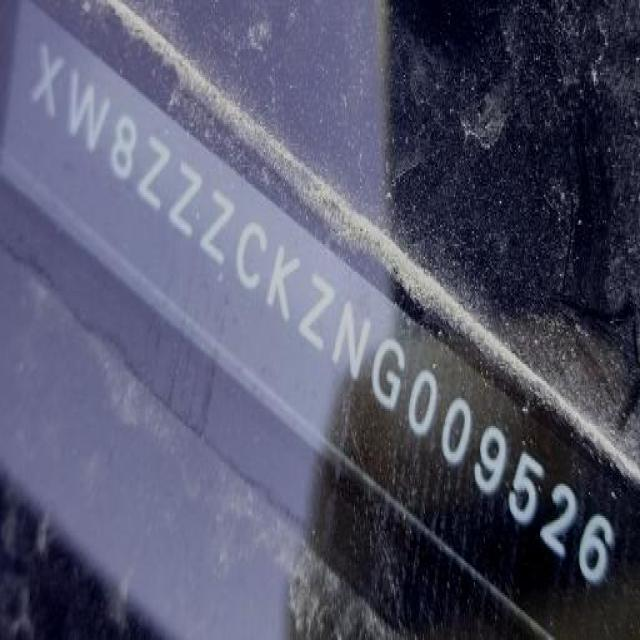0: (407, 363, 438, 432), (442, 398, 470, 462)
2: (540, 480, 578, 558)
5: (510, 456, 542, 526)
6: (579, 514, 616, 583)
8: (109, 109, 136, 182)
9: (471, 419, 506, 496)
C: (236, 222, 269, 286)
G: (369, 338, 406, 421)
K: (268, 250, 301, 322)
N: (329, 305, 373, 379)
W: (67, 70, 109, 154)
X: (27, 28, 63, 128)
Z: (298, 271, 334, 355), (168, 167, 204, 240), (138, 136, 170, 212), (202, 188, 231, 266)
